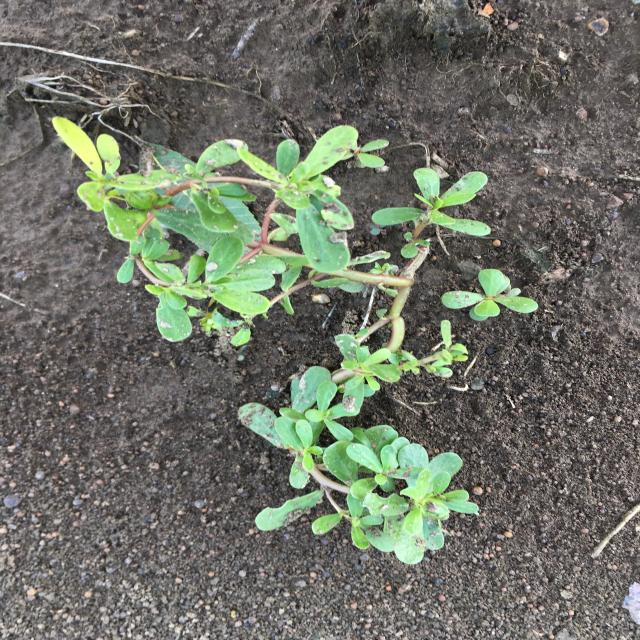Purslane: (52, 116, 491, 564), (442, 269, 538, 321)
